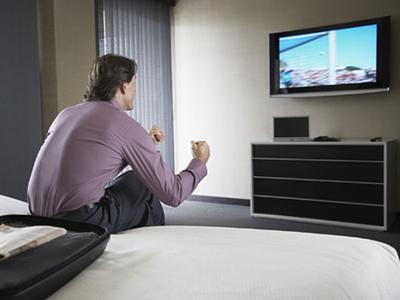person: (29, 53, 209, 234)
